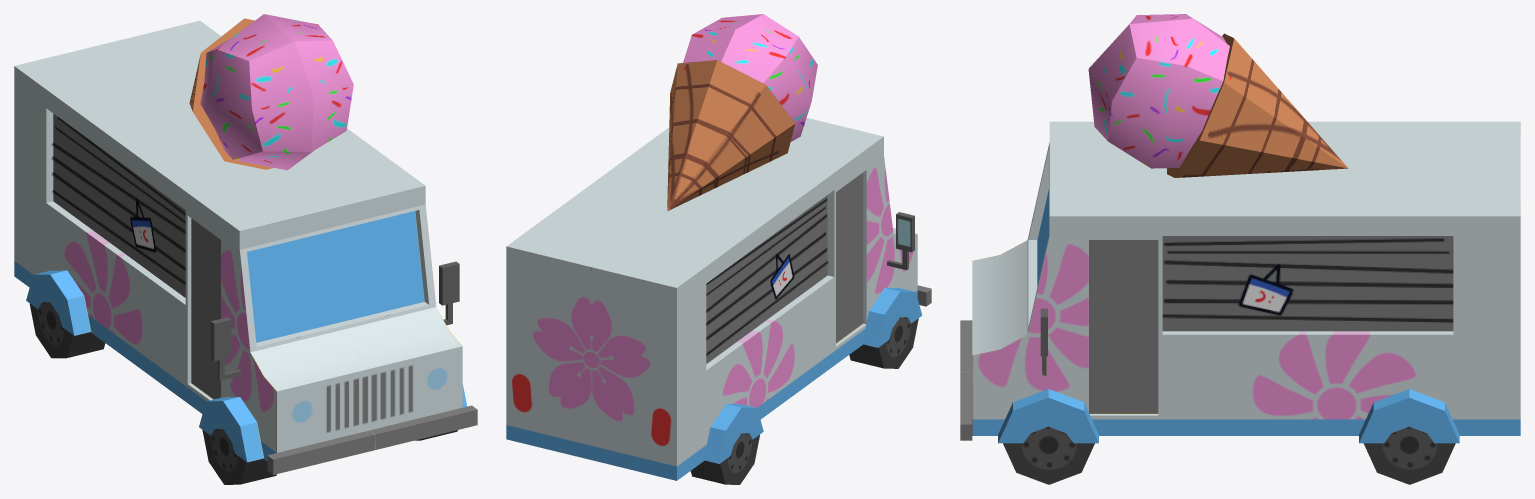
The model's file is Camion_01.fbx.
The picture shows the model from 3 angles, left to right: view 1: azimuth 30°, elevation 25°; view 2: azimuth 150°, elevation 25°; view 3: azimuth 270°, elevation 25°; orthographic projection. The views are drawn at different scales.
Parts seen in each view (by area): view 1: polySurface7; view 2: polySurface7; view 3: polySurface7.
Part boxes in pixels (x1,y1,x2,y2): polySurface7: [14, 14, 477, 484]; polySurface7: [506, 14, 931, 484]; polySurface7: [960, 14, 1520, 484].
Bounding box in the file's own units: 101 × 155 × 192.
Materials: 1 (1 with a texture image).
